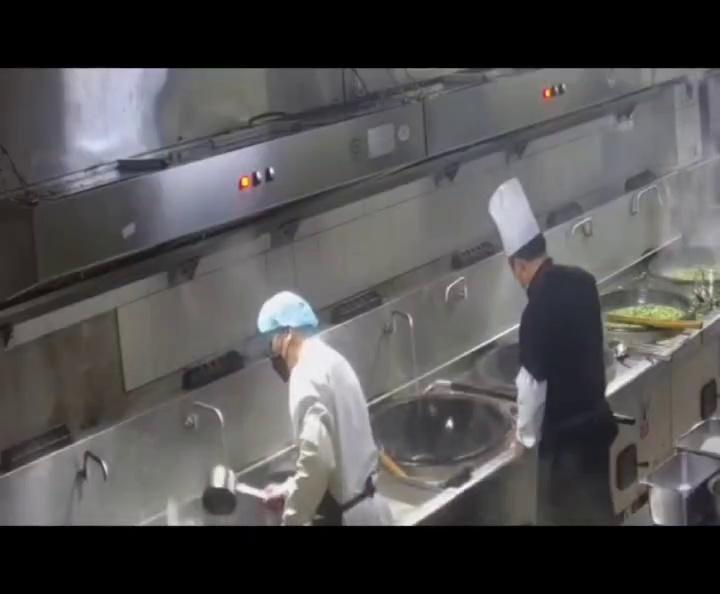gloves: (255, 286, 318, 330)
